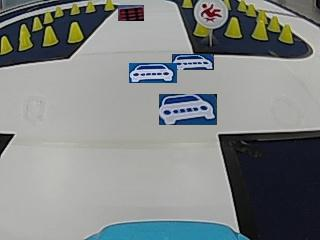cone: (224, 17, 242, 38), (18, 24, 31, 50), (67, 21, 83, 42), (252, 18, 267, 40), (278, 23, 293, 44), (42, 26, 57, 46), (193, 22, 209, 37), (0, 34, 11, 54), (268, 14, 280, 32), (246, 3, 256, 17), (32, 16, 41, 31), (43, 11, 53, 24), (70, 3, 80, 15), (85, 1, 95, 13), (54, 5, 63, 18), (104, 0, 113, 11), (181, 0, 192, 8)
tumble: (197, 1, 226, 25)
